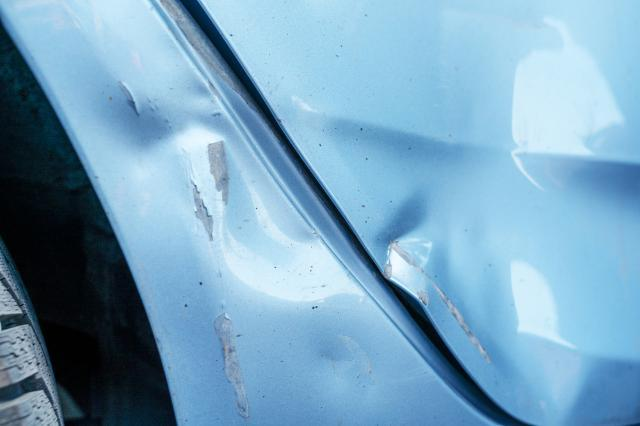dent: (333, 11, 640, 424), (93, 77, 357, 306), (305, 337, 366, 395)
scratch: (213, 313, 252, 426)
